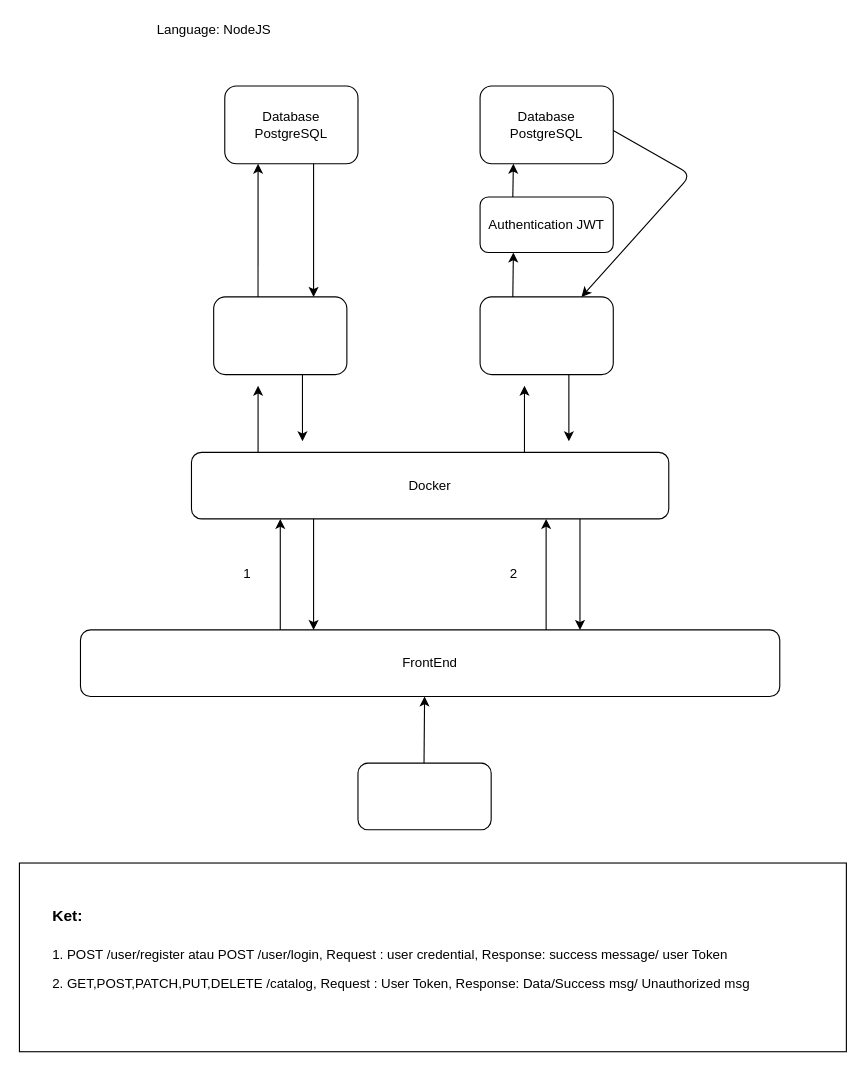
The diagram is 866 pixels wide and 1071 high, and some of its shapes have lost their labels. The centre of each missing label's shape, as x and y in pixels:
Microservice /catalog: the point at 546,335
Microservice /user: the point at 280,335
User: the point at 424,796
